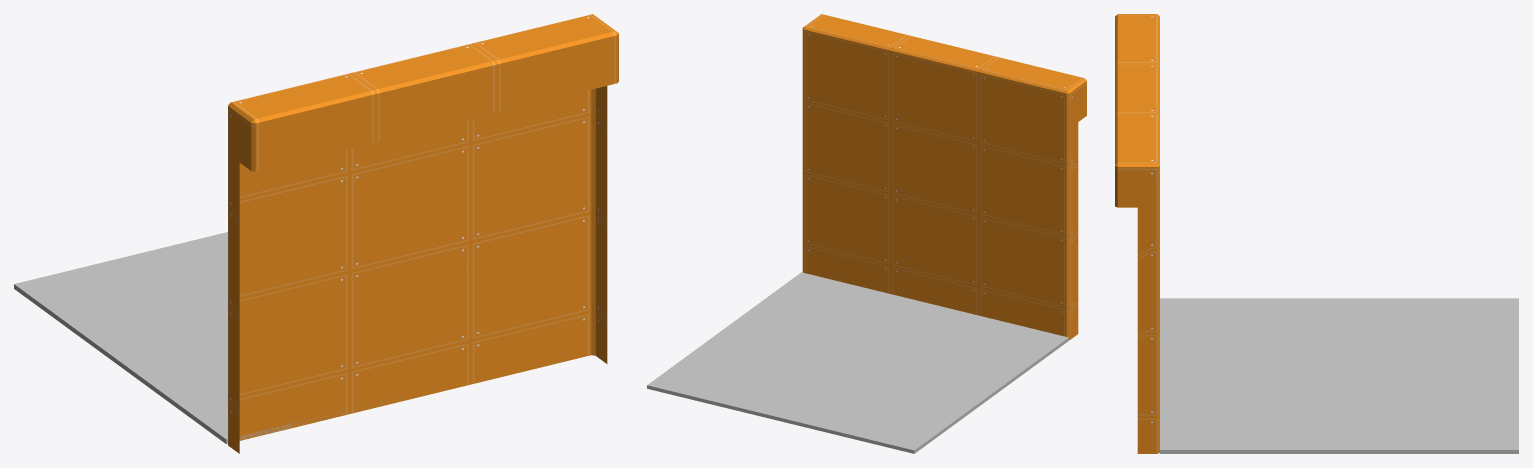
The model's file is redGoal.fbx.
The picture shows the model from 3 angles, left to right: view 1: azimuth 30°, elevation 25°; view 2: azimuth 150°, elevation 25°; view 3: azimuth 270°, elevation 25°; orthographic projection. The views are drawn at different scales.
Visible parts, largest first — view 1: redBlock1, redGoalA; view 2: redBlock1, redGoalA; view 3: redGoalA, redBlock1.
Part boxes in pixels (x1,y1,x2,y2): redBlock1: [228, 14, 618, 453]; redGoalA: [14, 232, 396, 444]; redBlock1: [802, 14, 1086, 340]; redGoalA: [647, 272, 1068, 453]; redGoalA: [1160, 298, 1518, 453]; redBlock1: [1115, 14, 1159, 453].
Size of the model in its own units: 4 by 3.56 by 4.5.
